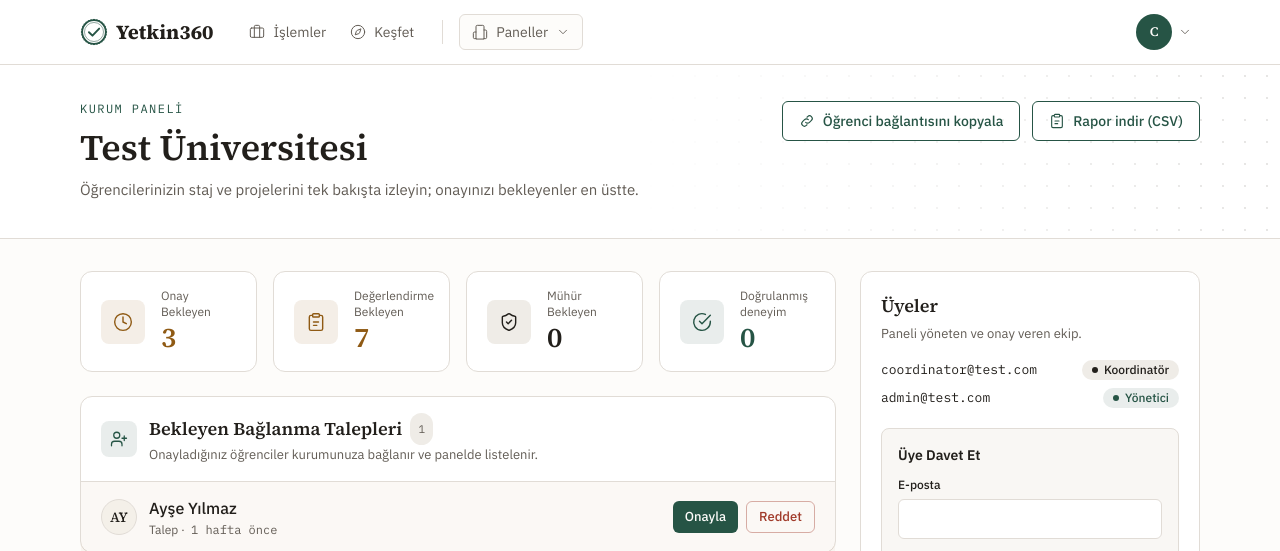
it: KurumPanelPage (/kurum/[id]/panel) › YET-197/IS-10: Bekleyen bağlanma talepleri › Reddet butonuna tıklanınca rejectLinkRequest çağrılır ve başarı mesajı gösterilir
Click the button "Reddet" in the row of "Ayşe Yılmaz" at (781, 516), box top-left (746, 500), bottom-right (815, 532)
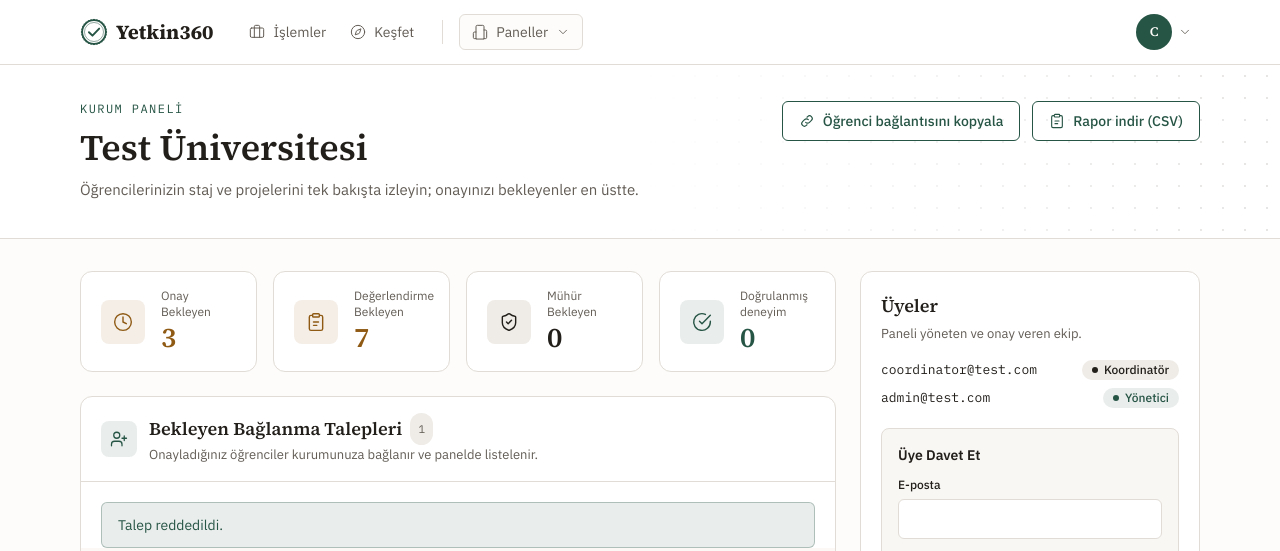
Expected: the text "Talep reddedildi." is shown, top-left (101, 502), bottom-right (815, 548)
